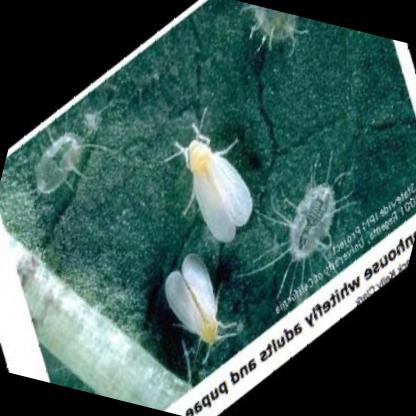whitefly: (186, 140, 252, 243), (163, 254, 219, 344)
